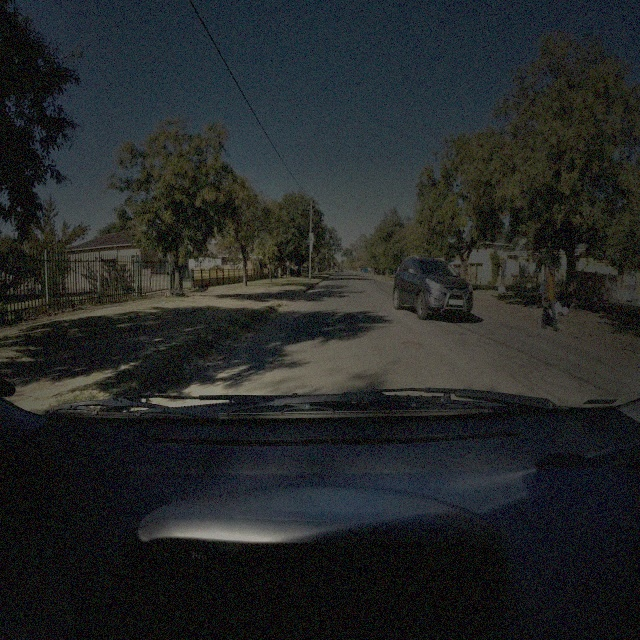pothole: (402, 338, 424, 351), (372, 309, 386, 314)
